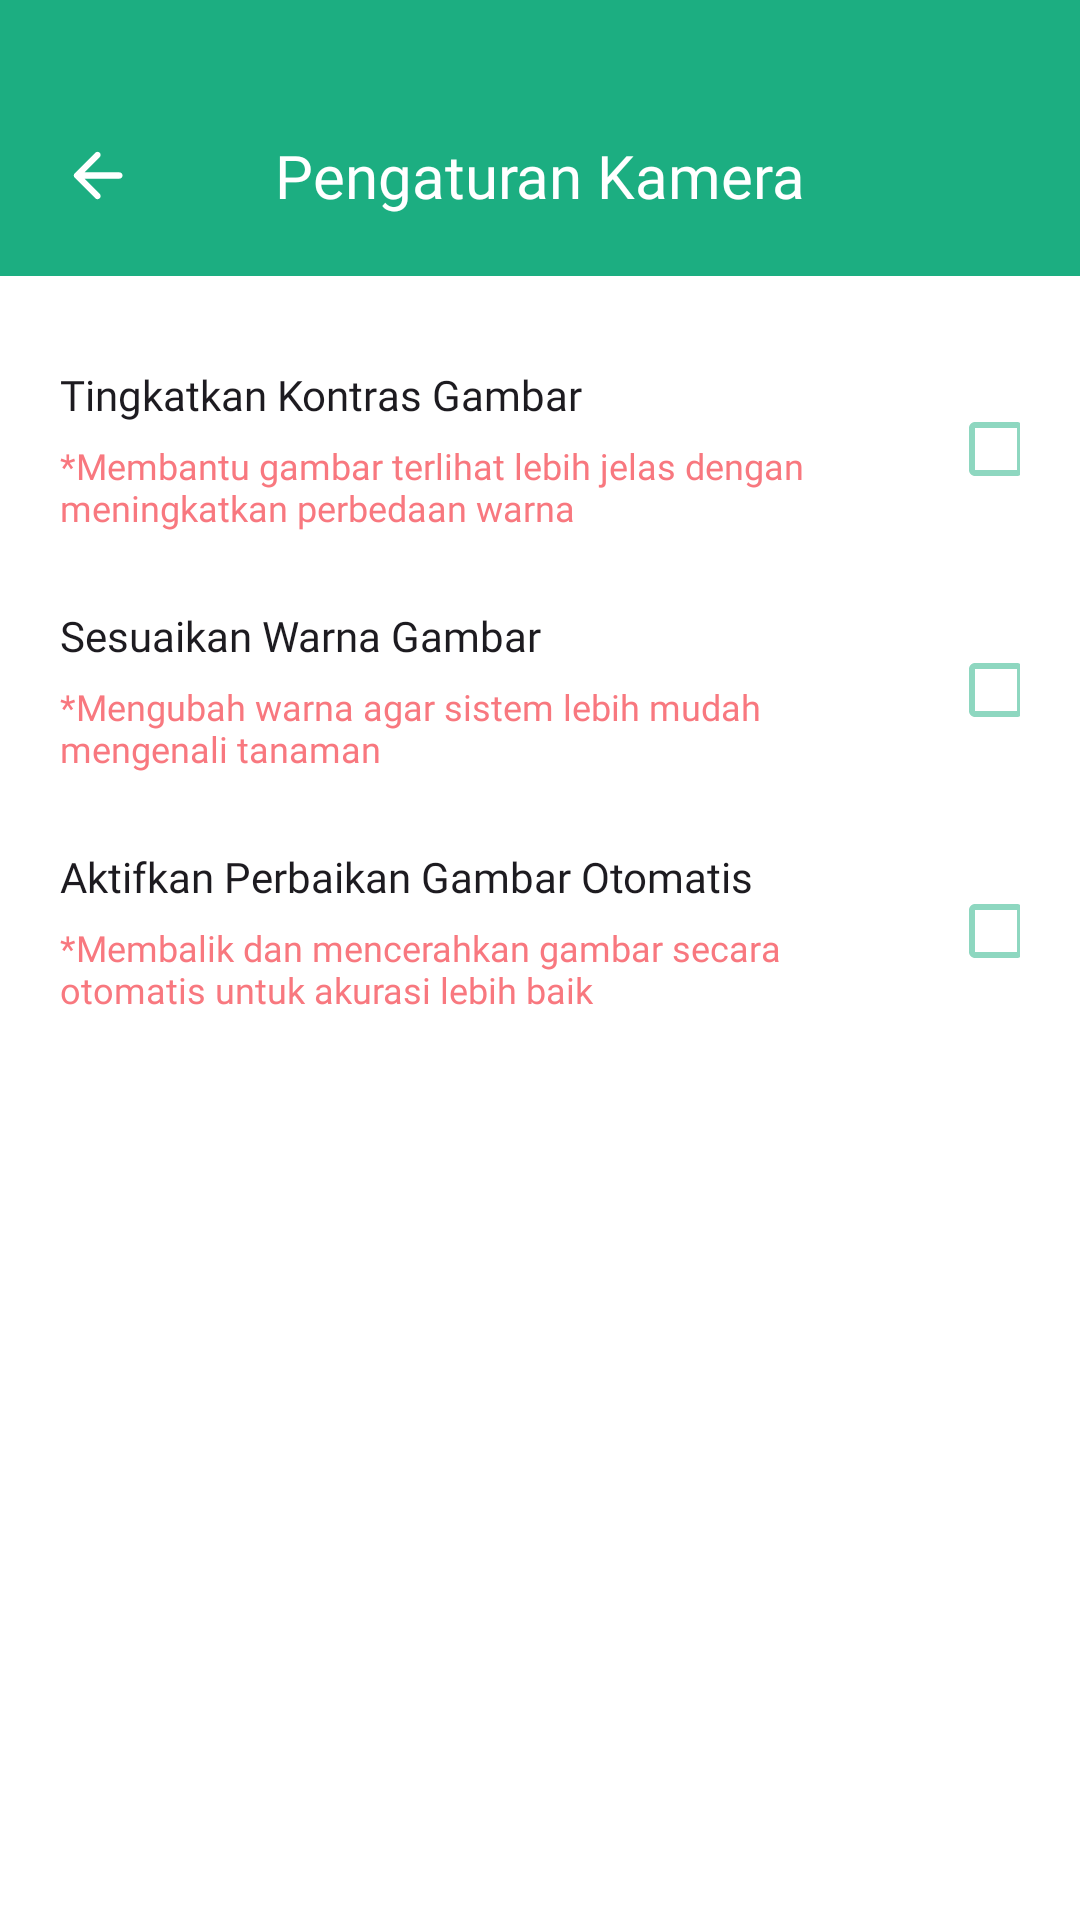

Point at icon controls on the screen. Image size 1080px x 1920px, points as (x=x, y=y).
Kembali: (x=98, y=175)
